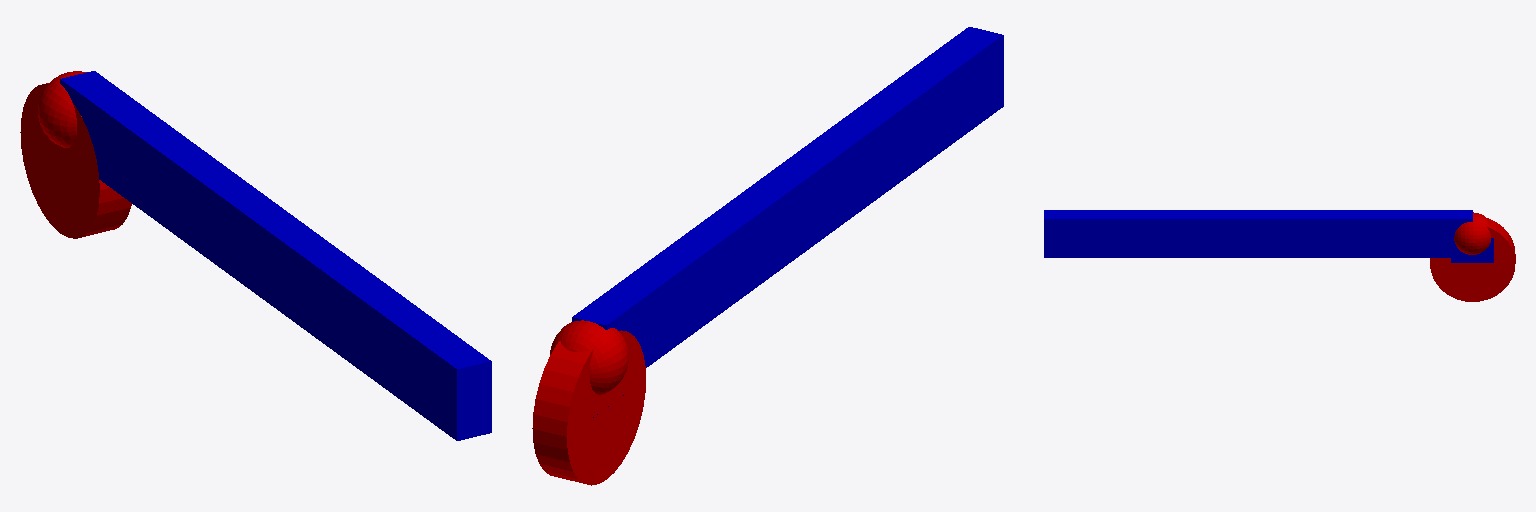
The robot description file, URDF, robot "TwoLinkStruct7857710697":
<?xml version="1.0"?>
<robot  name="TwoLinkStruct7857710697" >
 <material  name="blue" >
  <color  rgba="0 0 0.8 1.0" />
 </material>
 <material  name="red" >
  <color  rgba="0.8 0 0 1.0" />
 </material>
 <link  name="base_link" >
  <visual >
   <origin  rpy="0 1.5707 0"  xyz="0 0 0" />
   <material  name="red" />
   <geometry >
    <cylinder  length="0.05"  radius="0.1" />
   </geometry>
  </visual>
 </link>
 <joint  type="revolute"  name="joint1" >
  <parent  link="base_link" />
  <child  link="link1" />
  <origin  xyz="0 0 0"  rpy="0 0 0" />
  <axis  xyz="1 0 0" />
 </joint>
 <link  name="link1" >
  <inertial >
   <origin  rpy="0 0 0"  xyz="0 0 0.0322995248721612" />
   <mass  value="0.2911896535992497" />
   <inertia  ixy="0.0"  iyy="0.00012132902233302072"  izz="0.00016192661656984998"  ixz="0.0"  ixx="0.00016192661656984998"  iyz="0.0" />
  </inertial>
  <visual >
   <origin  rpy="0 0 0"  xyz="0 0 0.0322995248721612" />
   <material  name="blue" />
   <geometry >
    <box  size="0.05 0.1 0.0645990497443224" />
   </geometry>
  </visual>
 </link>
 <joint  type="fixed"  name="joint-joint-1" >
  <parent  link="link1" />
  <child  link="joint-link-1" />
  <origin  xyz="0 0 0.0645990497443224"  rpy="1.5707 0 0" />
  <axis  xyz="1 0 0" />
 </joint>
 <link  name="joint-link-1" >
  <inertial >
   <origin  rpy="0 0 0"  xyz="0 0 0" />
   <mass  value="4.454617364132932" />
   <inertia  ixy="0"  iyy="0"  izz="0"  ixz="0"  ixx="0"  iyz="0" />
  </inertial>
  <visual >
   <origin  rpy="0 0 0"  xyz="0 0 0" />
   <material  name="red" />
   <geometry >
    <sphere  radius="0.05" />
   </geometry>
  </visual>
 </link>
 <joint  type="revolute"  name="joint2" >
  <parent  link="link1" />
  <child  link="link2" />
  <origin  xyz="0 0 0.0645990497443224"  rpy="1.5707 0 0" />
  <axis  xyz="1 0 0" />
 </joint>
 <link  name="link2" >
  <inertial >
   <origin  rpy="0 0 0"  xyz="0 0 0.5" />
   <mass  value="4.0957818031311035" />
   <inertia  ixy="0.0"  iyy="0.00012132902233302072"  izz="0.02432646897777065"  ixz="0.0"  ixx="0.02432646897777065"  iyz="0.0" />
  </inertial>
  <visual >
   <origin  rpy="0 0 0"  xyz="0 0 0.5" />
   <material  name="blue" />
   <geometry >
    <box  size="0.05 0.1 1.0" />
   </geometry>
  </visual>
 </link>
 <joint  type="fixed"  name="eef_joint" >
  <parent  link="link2" />
  <child  link="eef" />
  <origin  xyz="0 0 1.0"  rpy="0 0 0" />
 </joint>
 <link  name="eef" >
  <inertial >
   <origin  rpy="0 0 0"  xyz="0 0 0" />
   <mass  value="1" />
   <inertia  ixy="0"  iyy="0"  izz="0"  ixz="0"  ixx="0"  iyz="0" />
  </inertial>
 </link>
 <transmission  name="motor1" >
  <type  xmltext="SimpleTransmission" >
   SimpleTransmission
  </type>
  <actuator  name="motor1" >
   <mechanicalreduction  xmltext="1" >
    1
   </mechanicalreduction>
  </actuator>
  <joint  name="joint1" />
 </transmission>
 <transmission  name="motor2" >
  <type  xmltext="SimpleTransmission" >
   SimpleTransmission
  </type>
  <actuator  name="motor2" >
   <mechanicalreduction  xmltext="1" >
    1
   </mechanicalreduction>
  </actuator>
  <joint  name="joint2" />
 </transmission>
</robot>

<!-- {'carti': array([-0.1 ,  0.14,  0.85]), 'cartd': array([-0.1 ,  0.32,  1.29]), 'tau_mu': 0.07264523038610056, 'b0': 0.31661511669553216, 'Km': 3.973992146290055, 'k_velocity': 57.28391976790098, 'tau_max_m': 4.322896520883185, 'omega_max_m': 9000.0, 'gear_ratio': 7.906402994903216, 'Kp': 36.9971841925634, 'Kd': 77.15072582042752, 'm_m': 4.454617364132932, 'l1': 0.0645990497443224, 'l2': 1.0, 'k1': 8769.11068990976, 'k2': 89258164.1642898, 'k3': 379000000.0}-->

--- What the picture shows (computed from the rendered views, not written in the file) ---
3 views of the same robot in one strip: view 1: azimuth 30°, elevation 25°; view 2: azimuth 150°, elevation 25°; view 3: azimuth 270°, elevation 25° (orthographic).
Model TwoLinkStruct7857710697 with 5 links and 4 joints (2 revolute, 2 fixed), rooted at base_link, posed every joint at zero.
Links seen in each view (by area): view 1: link2, base_link, joint-link-1; view 2: link2, base_link, joint-link-1; view 3: link2, base_link, joint-link-1.
Boxes of the visible links, bbox=[...] form: link2: bbox=[60, 71, 491, 440]; base_link: bbox=[20, 83, 131, 238]; joint-link-1: bbox=[38, 71, 86, 147]; link2: bbox=[572, 27, 1003, 367]; base_link: bbox=[532, 330, 645, 485]; joint-link-1: bbox=[550, 320, 628, 394]; link2: bbox=[1044, 210, 1472, 257]; base_link: bbox=[1430, 218, 1515, 301]; joint-link-1: bbox=[1454, 212, 1490, 254].
Bounding box of the posed robot: 0.1 × 1.1 × 0.2147 m (x, y, z).
Geometry: primitives only (box / cylinder / sphere), no mesh files.
